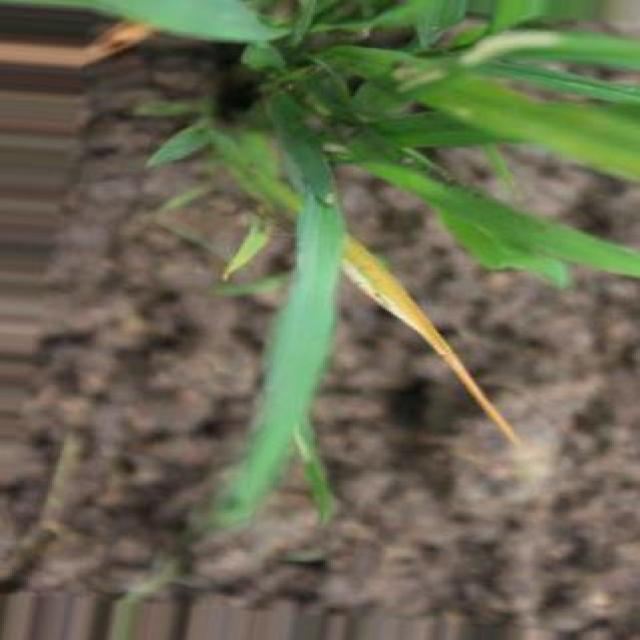Rice Tungro: (342, 236, 520, 446)
